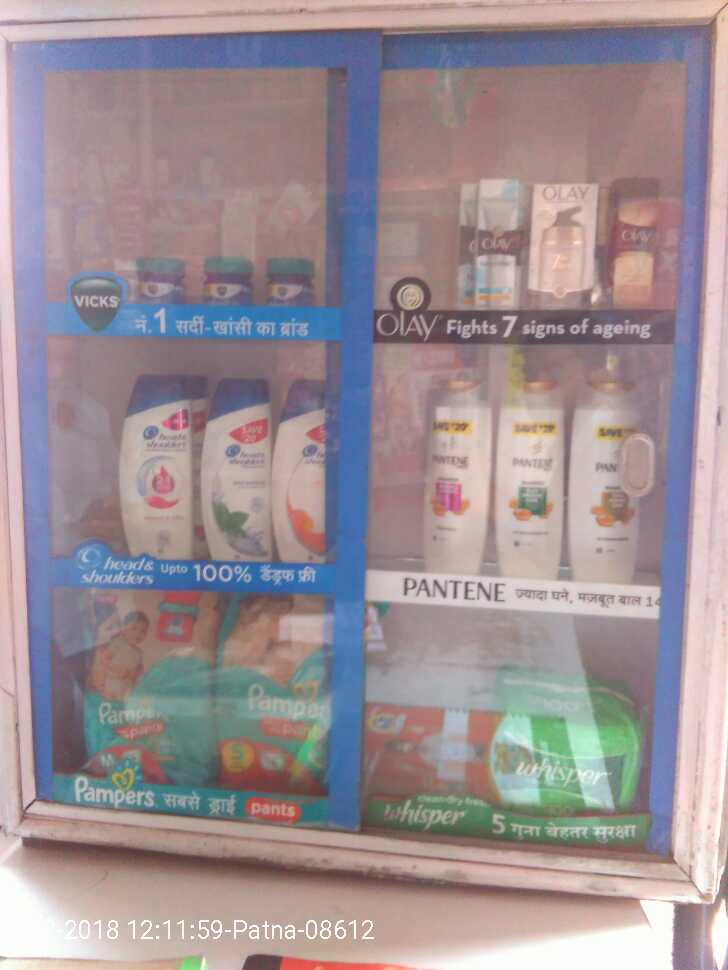beauty: (483, 381, 571, 579), (406, 372, 485, 579), (565, 388, 647, 576), (190, 374, 270, 560), (116, 382, 185, 565), (268, 358, 327, 564), (521, 179, 602, 319), (458, 181, 532, 315), (601, 196, 661, 303)
pharmacy: (63, 588, 213, 795), (206, 595, 321, 798), (487, 703, 644, 829), (256, 257, 316, 315), (190, 253, 247, 308), (130, 255, 183, 305)
